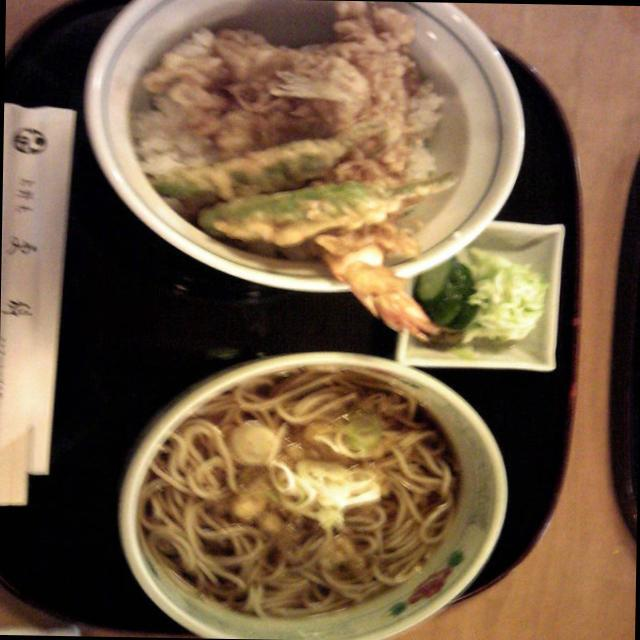Green Salad: (428, 247, 563, 346)
